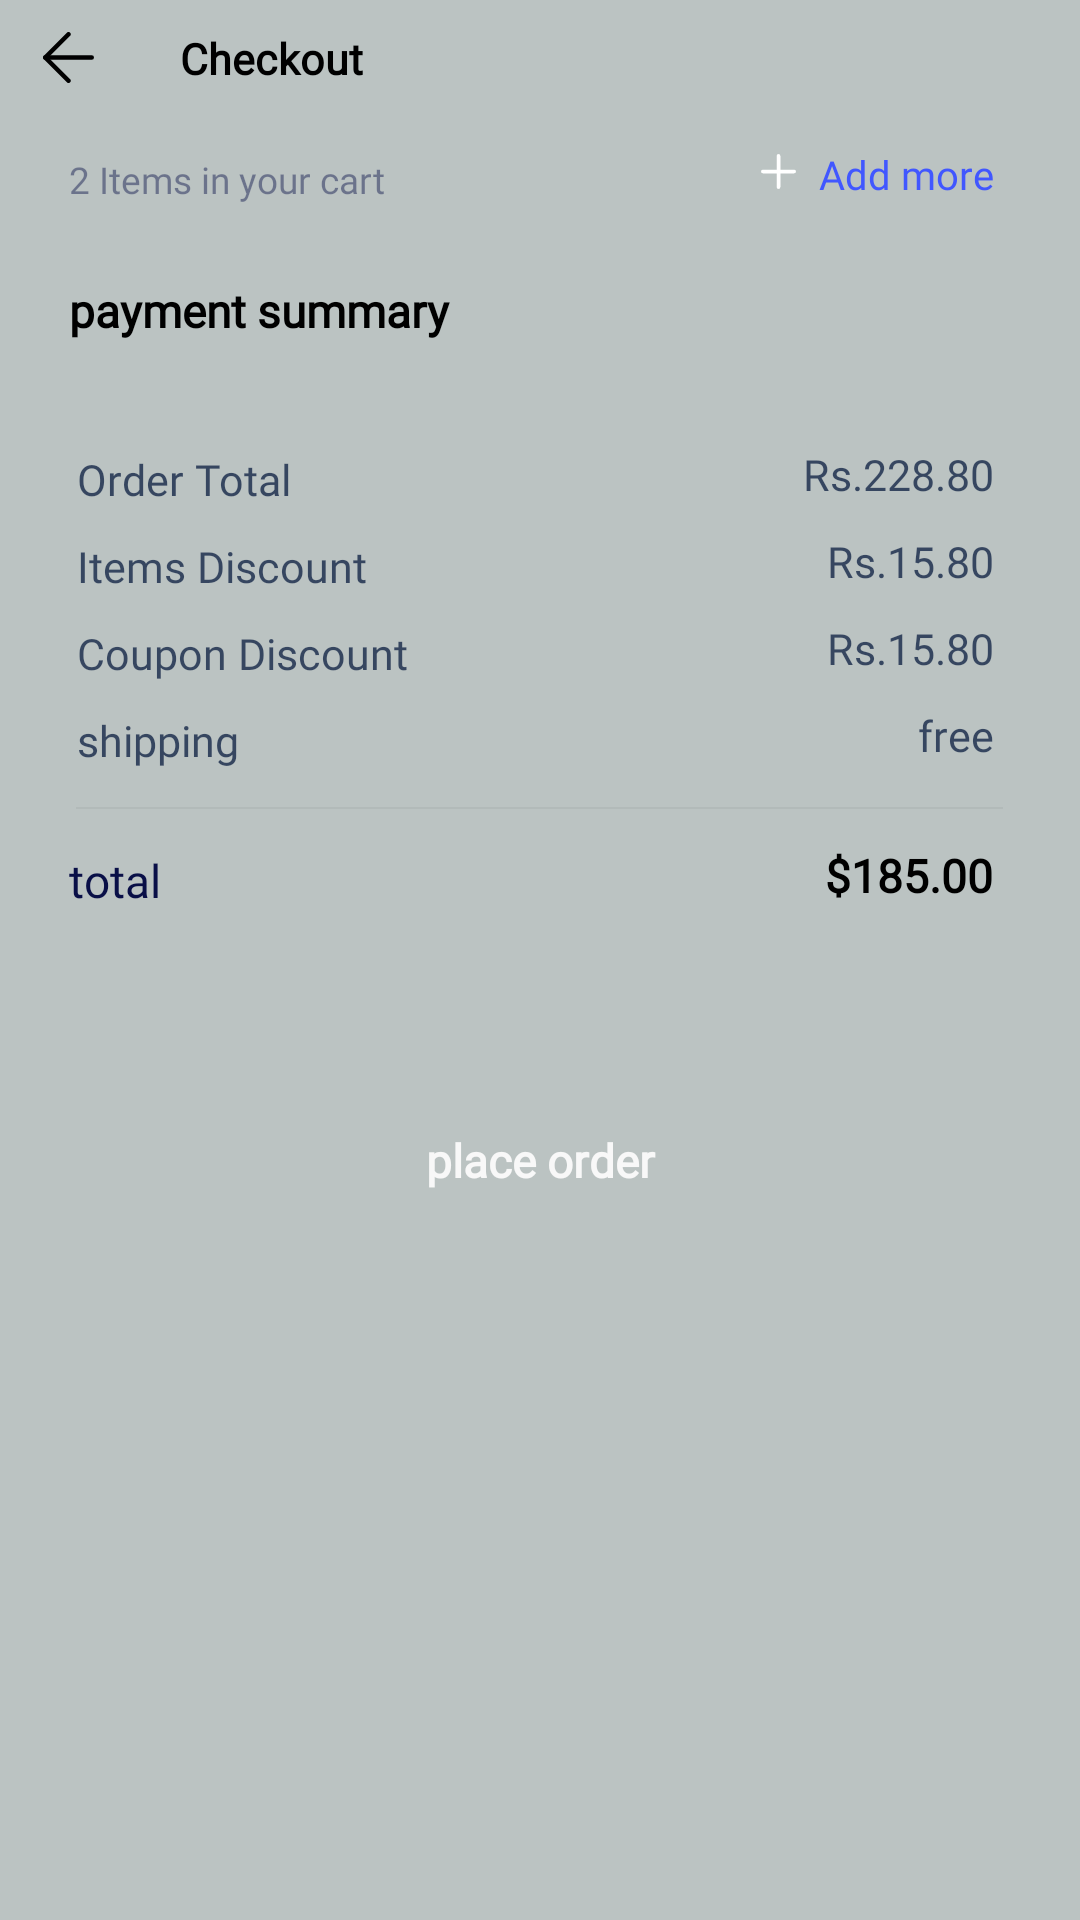

Screen size 1080px×1920px. Icon name, then its center in pixels as (x,y):
back arrow: (68,57)
plus: (778,171)
